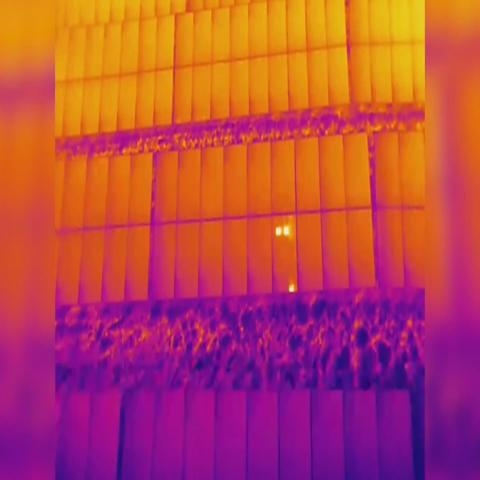fault: (284, 224, 290, 236), (275, 226, 282, 236), (288, 282, 294, 293)
